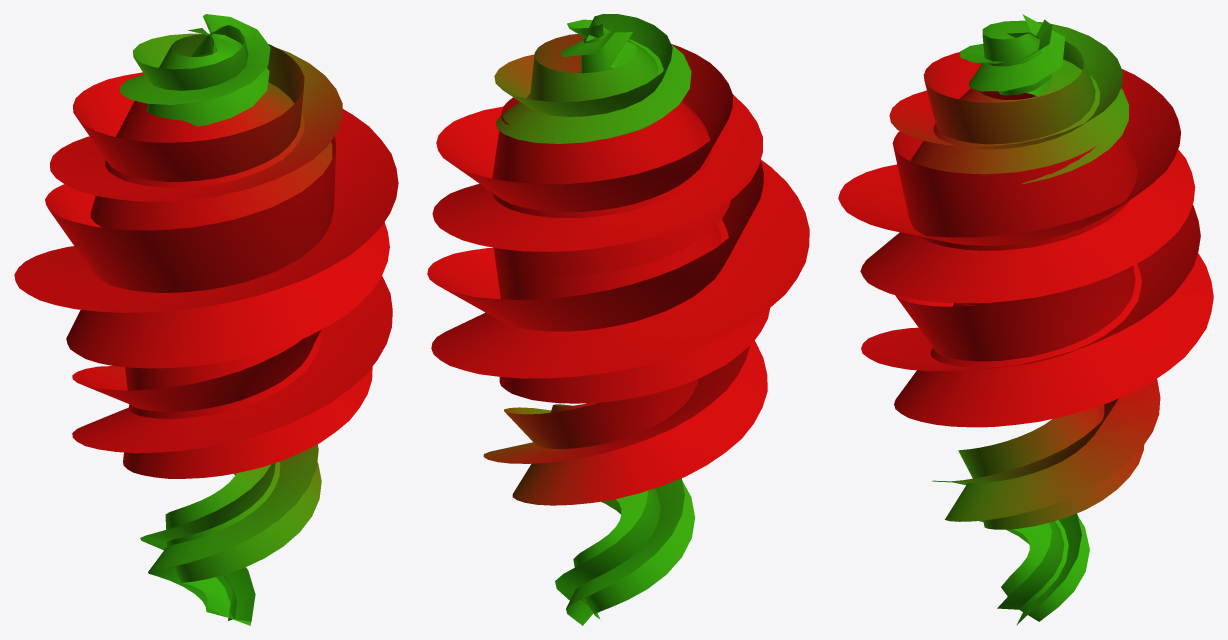
File: VFXCurveMesh06SpiralParticle.fbx
3 views of the same model, side by side, from view 1: azimuth 30°, elevation 25°; view 2: azimuth 150°, elevation 25°; view 3: azimuth 270°, elevation 25° (orthographic). The views are drawn at different scales.
Visible parts, largest first — view 1: VFXCurve02; view 2: VFXCurve02; view 3: VFXCurve02.
Boxes of the visible parts, box(x1,y1,x2,y2) form: VFXCurve02: box(14, 14, 398, 625); VFXCurve02: box(427, 14, 809, 625); VFXCurve02: box(838, 14, 1213, 625).
Bounding box in the file's own units: 257 × 450 × 259.
